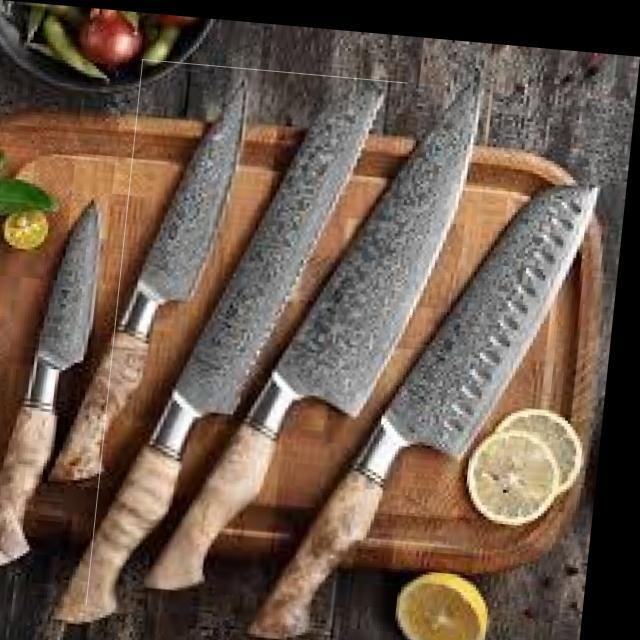knife: (58, 86, 388, 624), (145, 79, 482, 592), (254, 185, 601, 639), (48, 86, 249, 487), (0, 199, 99, 571)
